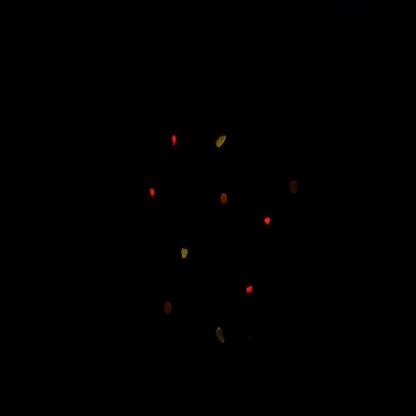PET: (145, 177, 162, 213), (260, 207, 276, 238), (243, 278, 258, 303), (169, 129, 183, 155)
PP: (211, 318, 232, 359), (210, 127, 235, 161), (178, 240, 196, 275)
PS: (286, 173, 304, 205), (161, 292, 178, 324), (218, 185, 233, 210)
